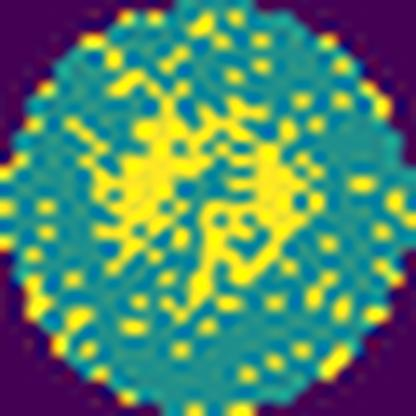Donut: (80, 71, 334, 341)
